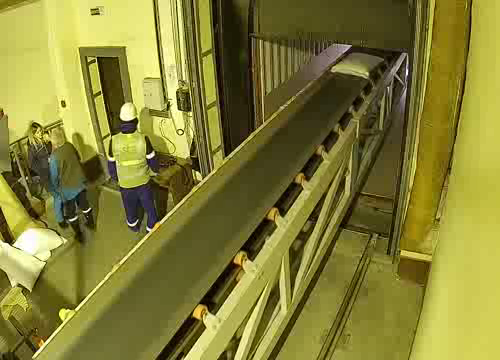bag: (332, 53, 385, 80)
